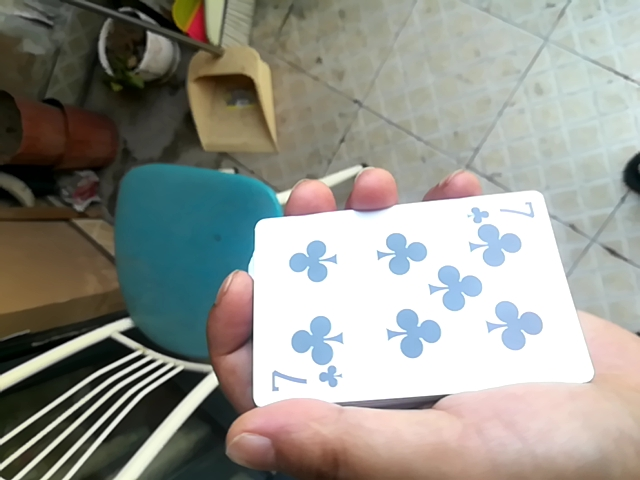mh 7: (237, 183, 589, 403)
